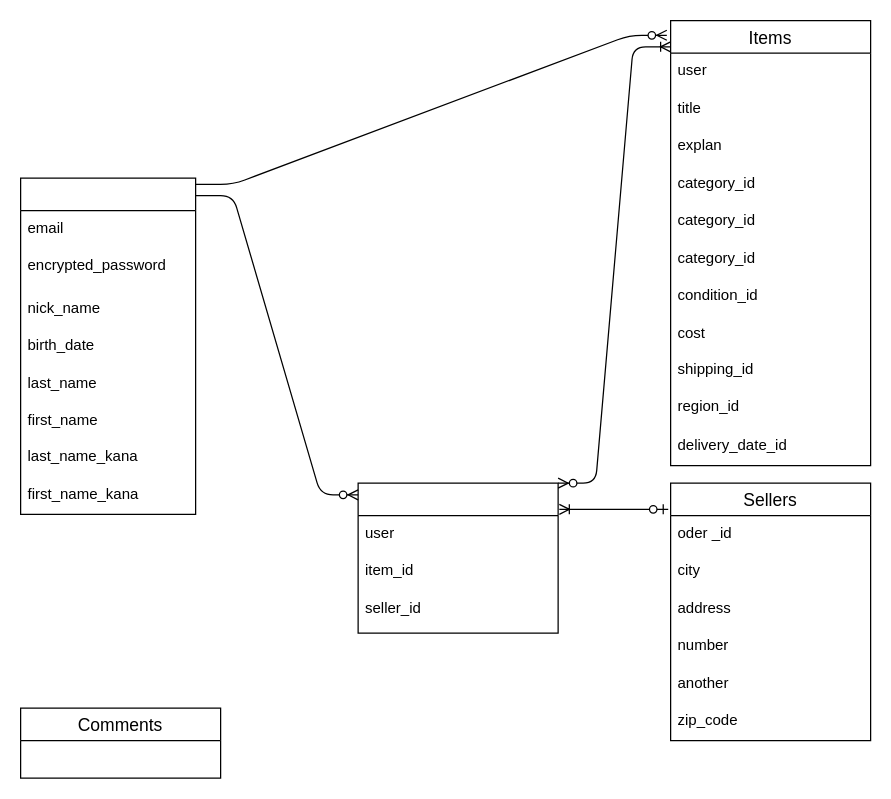
Some shapes in this 891 by 799 pixel diagram are drawn without their labels. The shapes that lost their labels are listed below. From the top down, each one's box as (x1, y1, x2, y2) in pixels, then its label:
(19, 177, 196, 514): Users
(357, 482, 558, 633): Oders
